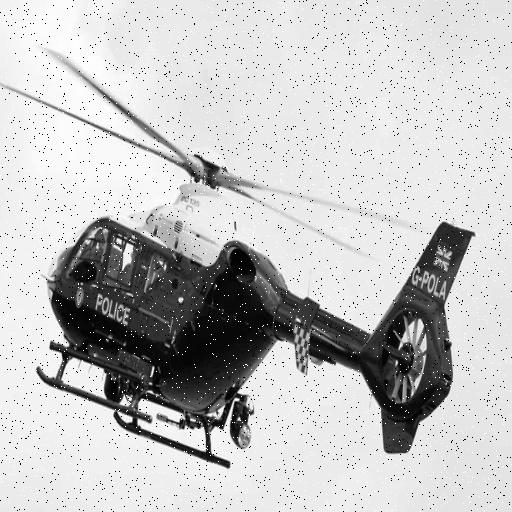helicopter: (1, 48, 479, 469)
